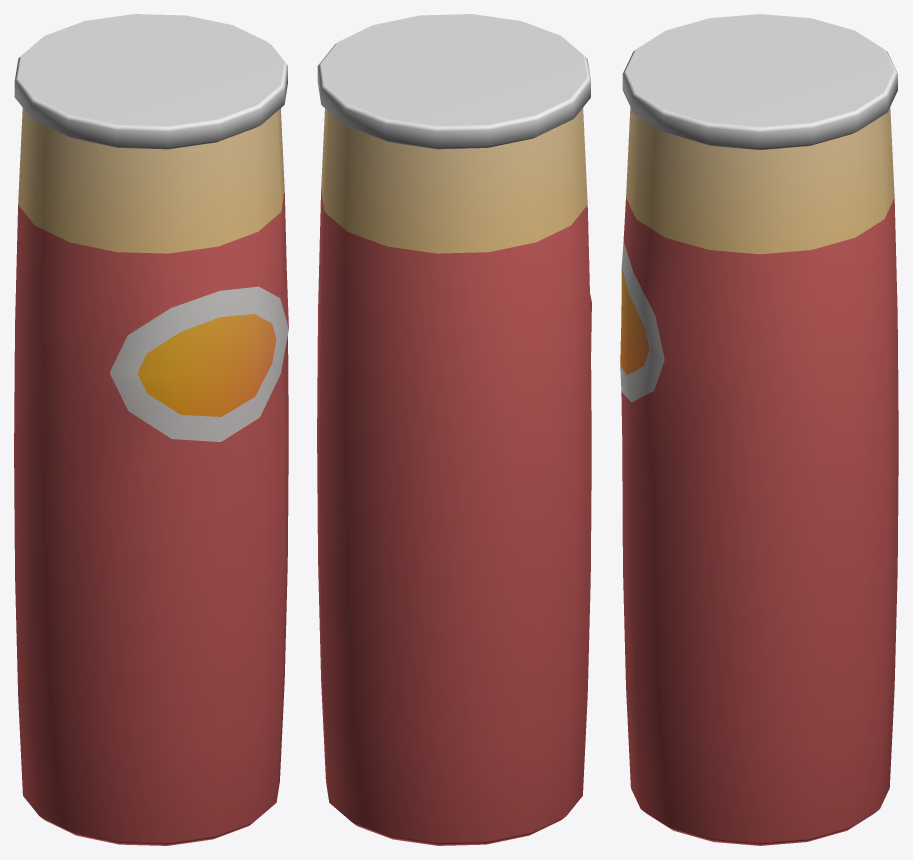
Rendered from chips_015.fbx.
3 views of the same model, side by side, from view 1: azimuth 30°, elevation 25°; view 2: azimuth 150°, elevation 25°; view 3: azimuth 270°, elevation 25° (orthographic).
Visible parts, largest first — view 1: chips_015; view 2: chips_015; view 3: chips_015.
Boxes of the visible parts, bbox=[...] form: chips_015: bbox=[14, 14, 288, 845]; chips_015: bbox=[317, 14, 591, 845]; chips_015: bbox=[620, 14, 898, 845].
Bounding box in the file's own units: 8.19 × 8.24 × 23.63.
